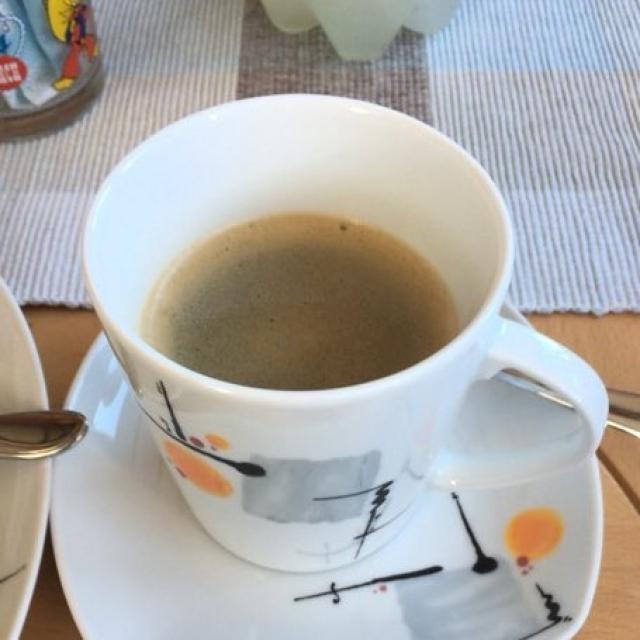coffee: (148, 220, 451, 385)
